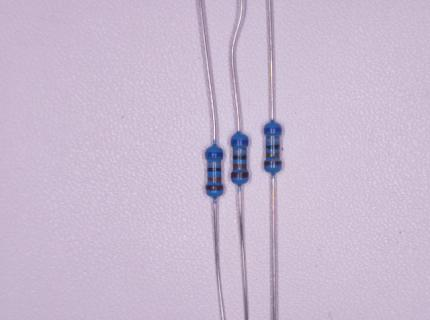Black band: (233, 155, 247, 161), (266, 144, 280, 150), (207, 167, 221, 172)
Blue band: (205, 152, 223, 158), (231, 139, 249, 145), (263, 128, 282, 132)
Brown band: (264, 160, 282, 167), (205, 185, 223, 191), (231, 172, 249, 178)
Grey band: (207, 162, 221, 166), (233, 150, 247, 154), (266, 138, 280, 142)
Orange band: (265, 152, 280, 158), (207, 176, 221, 182), (232, 163, 246, 169)
